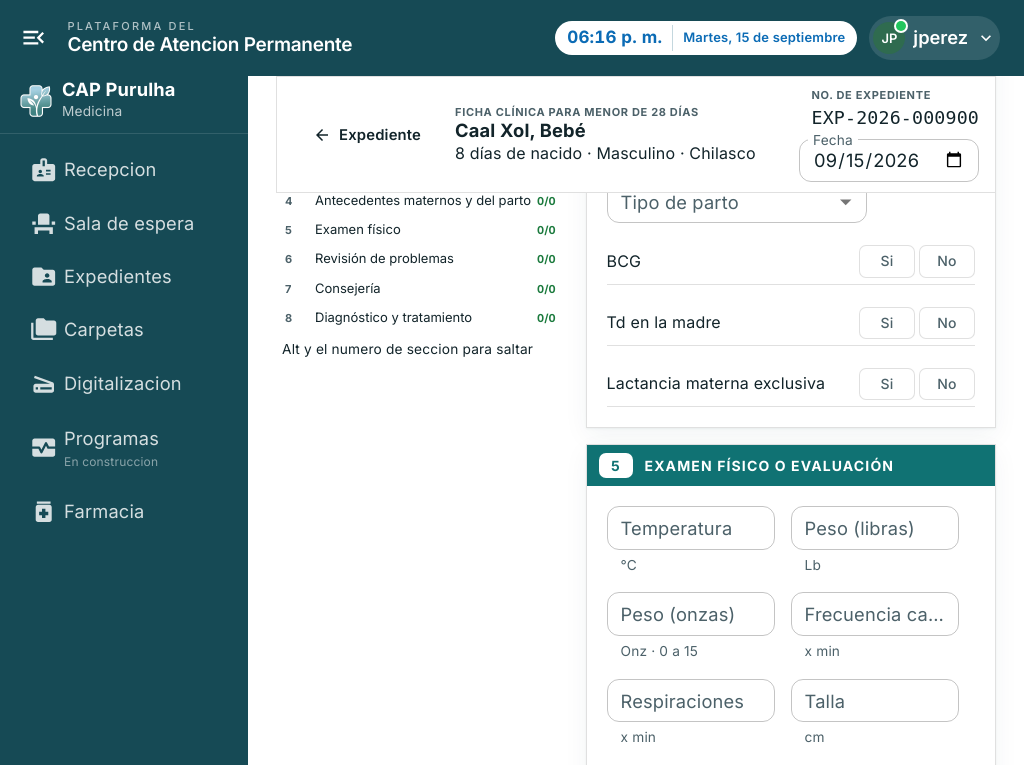
Scenario: la ficha en pantalla › si no hay lactancia materna exclusiva, dice que investigue
This screenshot has width=1024, height=765.
(page scrolled)
# La segunda casilla es "No".
Click the radio button labelled "No" in the row of "Lactancia materna exclusiva" at (947, 384), box [919,368,975,400]
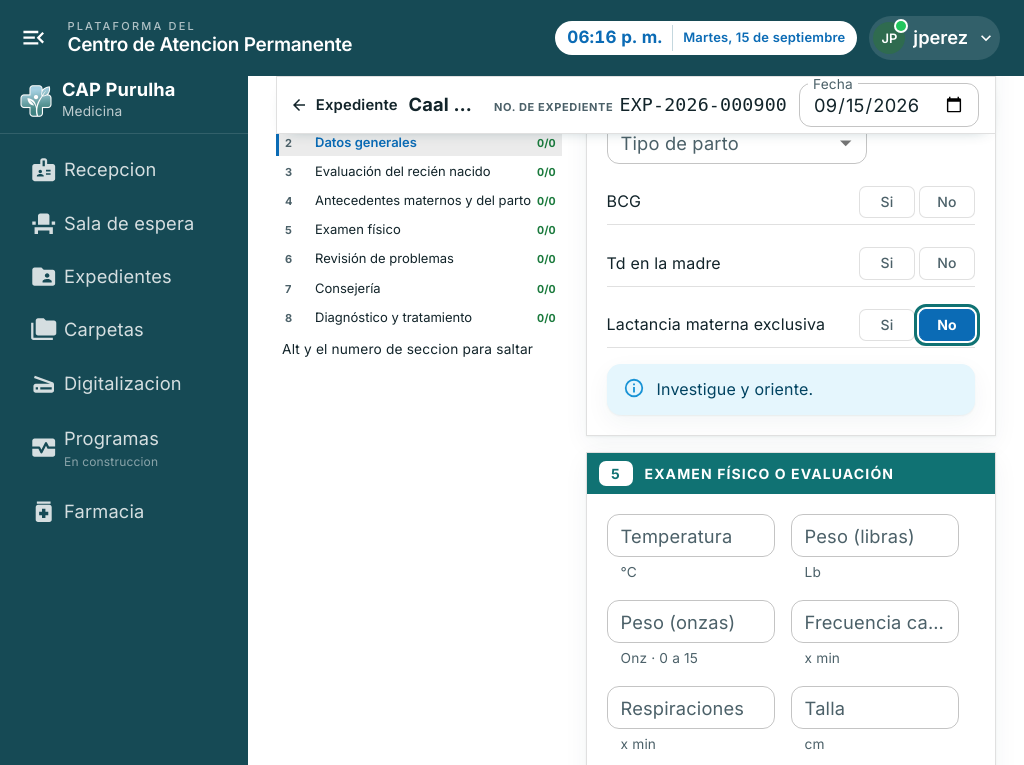
Expected: the text "Investigue y oriente." is shown, [656,379,813,399]
